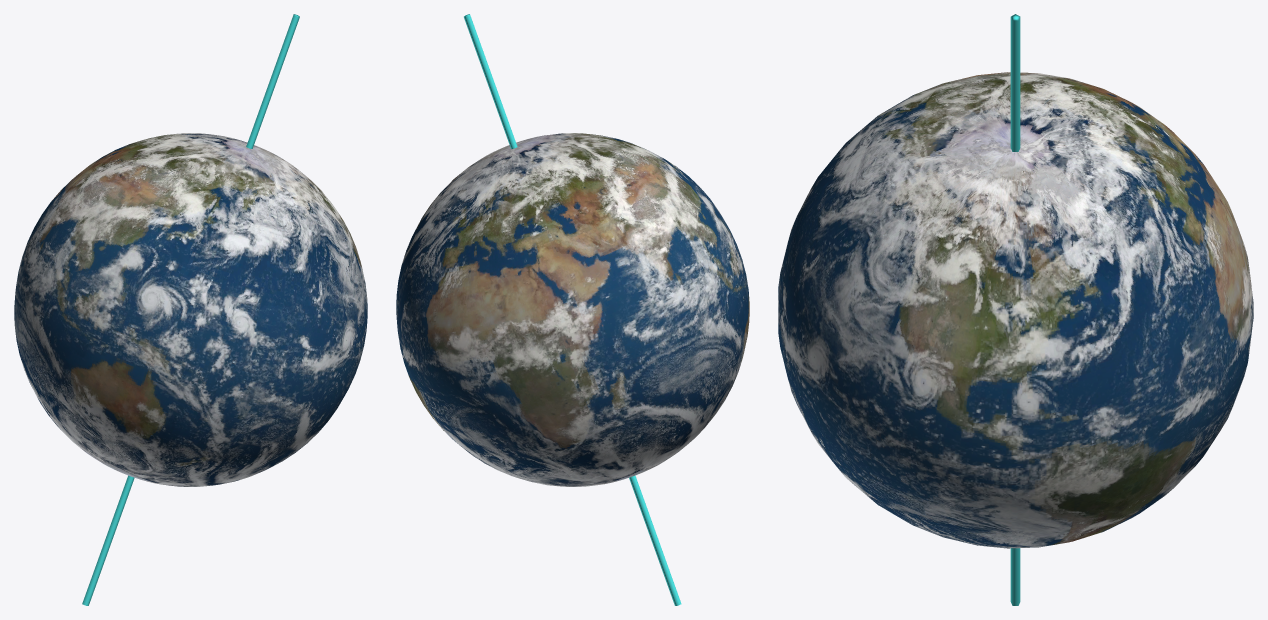
File: earth.fbx
3 views of the same model, side by side, from view 1: azimuth 30°, elevation 25°; view 2: azimuth 150°, elevation 25°; view 3: azimuth 270°, elevation 25° (orthographic). The views are drawn at different scales.
Parts seen in each view (by area): view 1: earth, earth_axis; view 2: earth, earth_axis; view 3: earth, earth_axis.
Boxes of the visible parts, box(x1,y1,x2,y2) form: earth: box(14, 133, 367, 486); earth_axis: box(82, 14, 299, 605); earth: box(396, 133, 749, 486); earth_axis: box(464, 14, 681, 605); earth: box(778, 72, 1253, 548); earth_axis: box(1010, 14, 1020, 605).
Bounding box in the file's own units: 1270 × 2140 × 1268.
